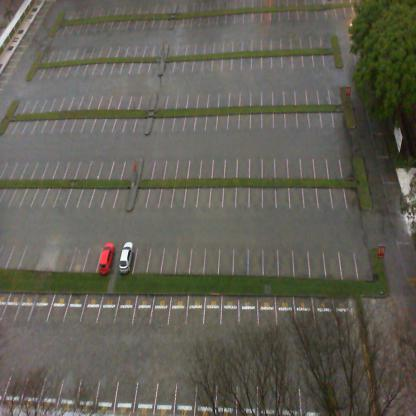car: (97, 240, 115, 275), (118, 240, 134, 274)
